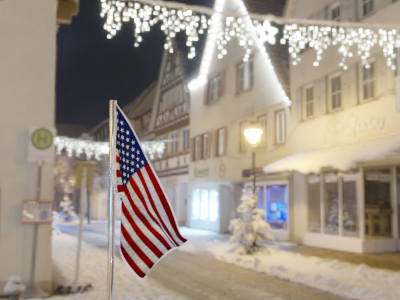America flag: (113, 101, 188, 281)
